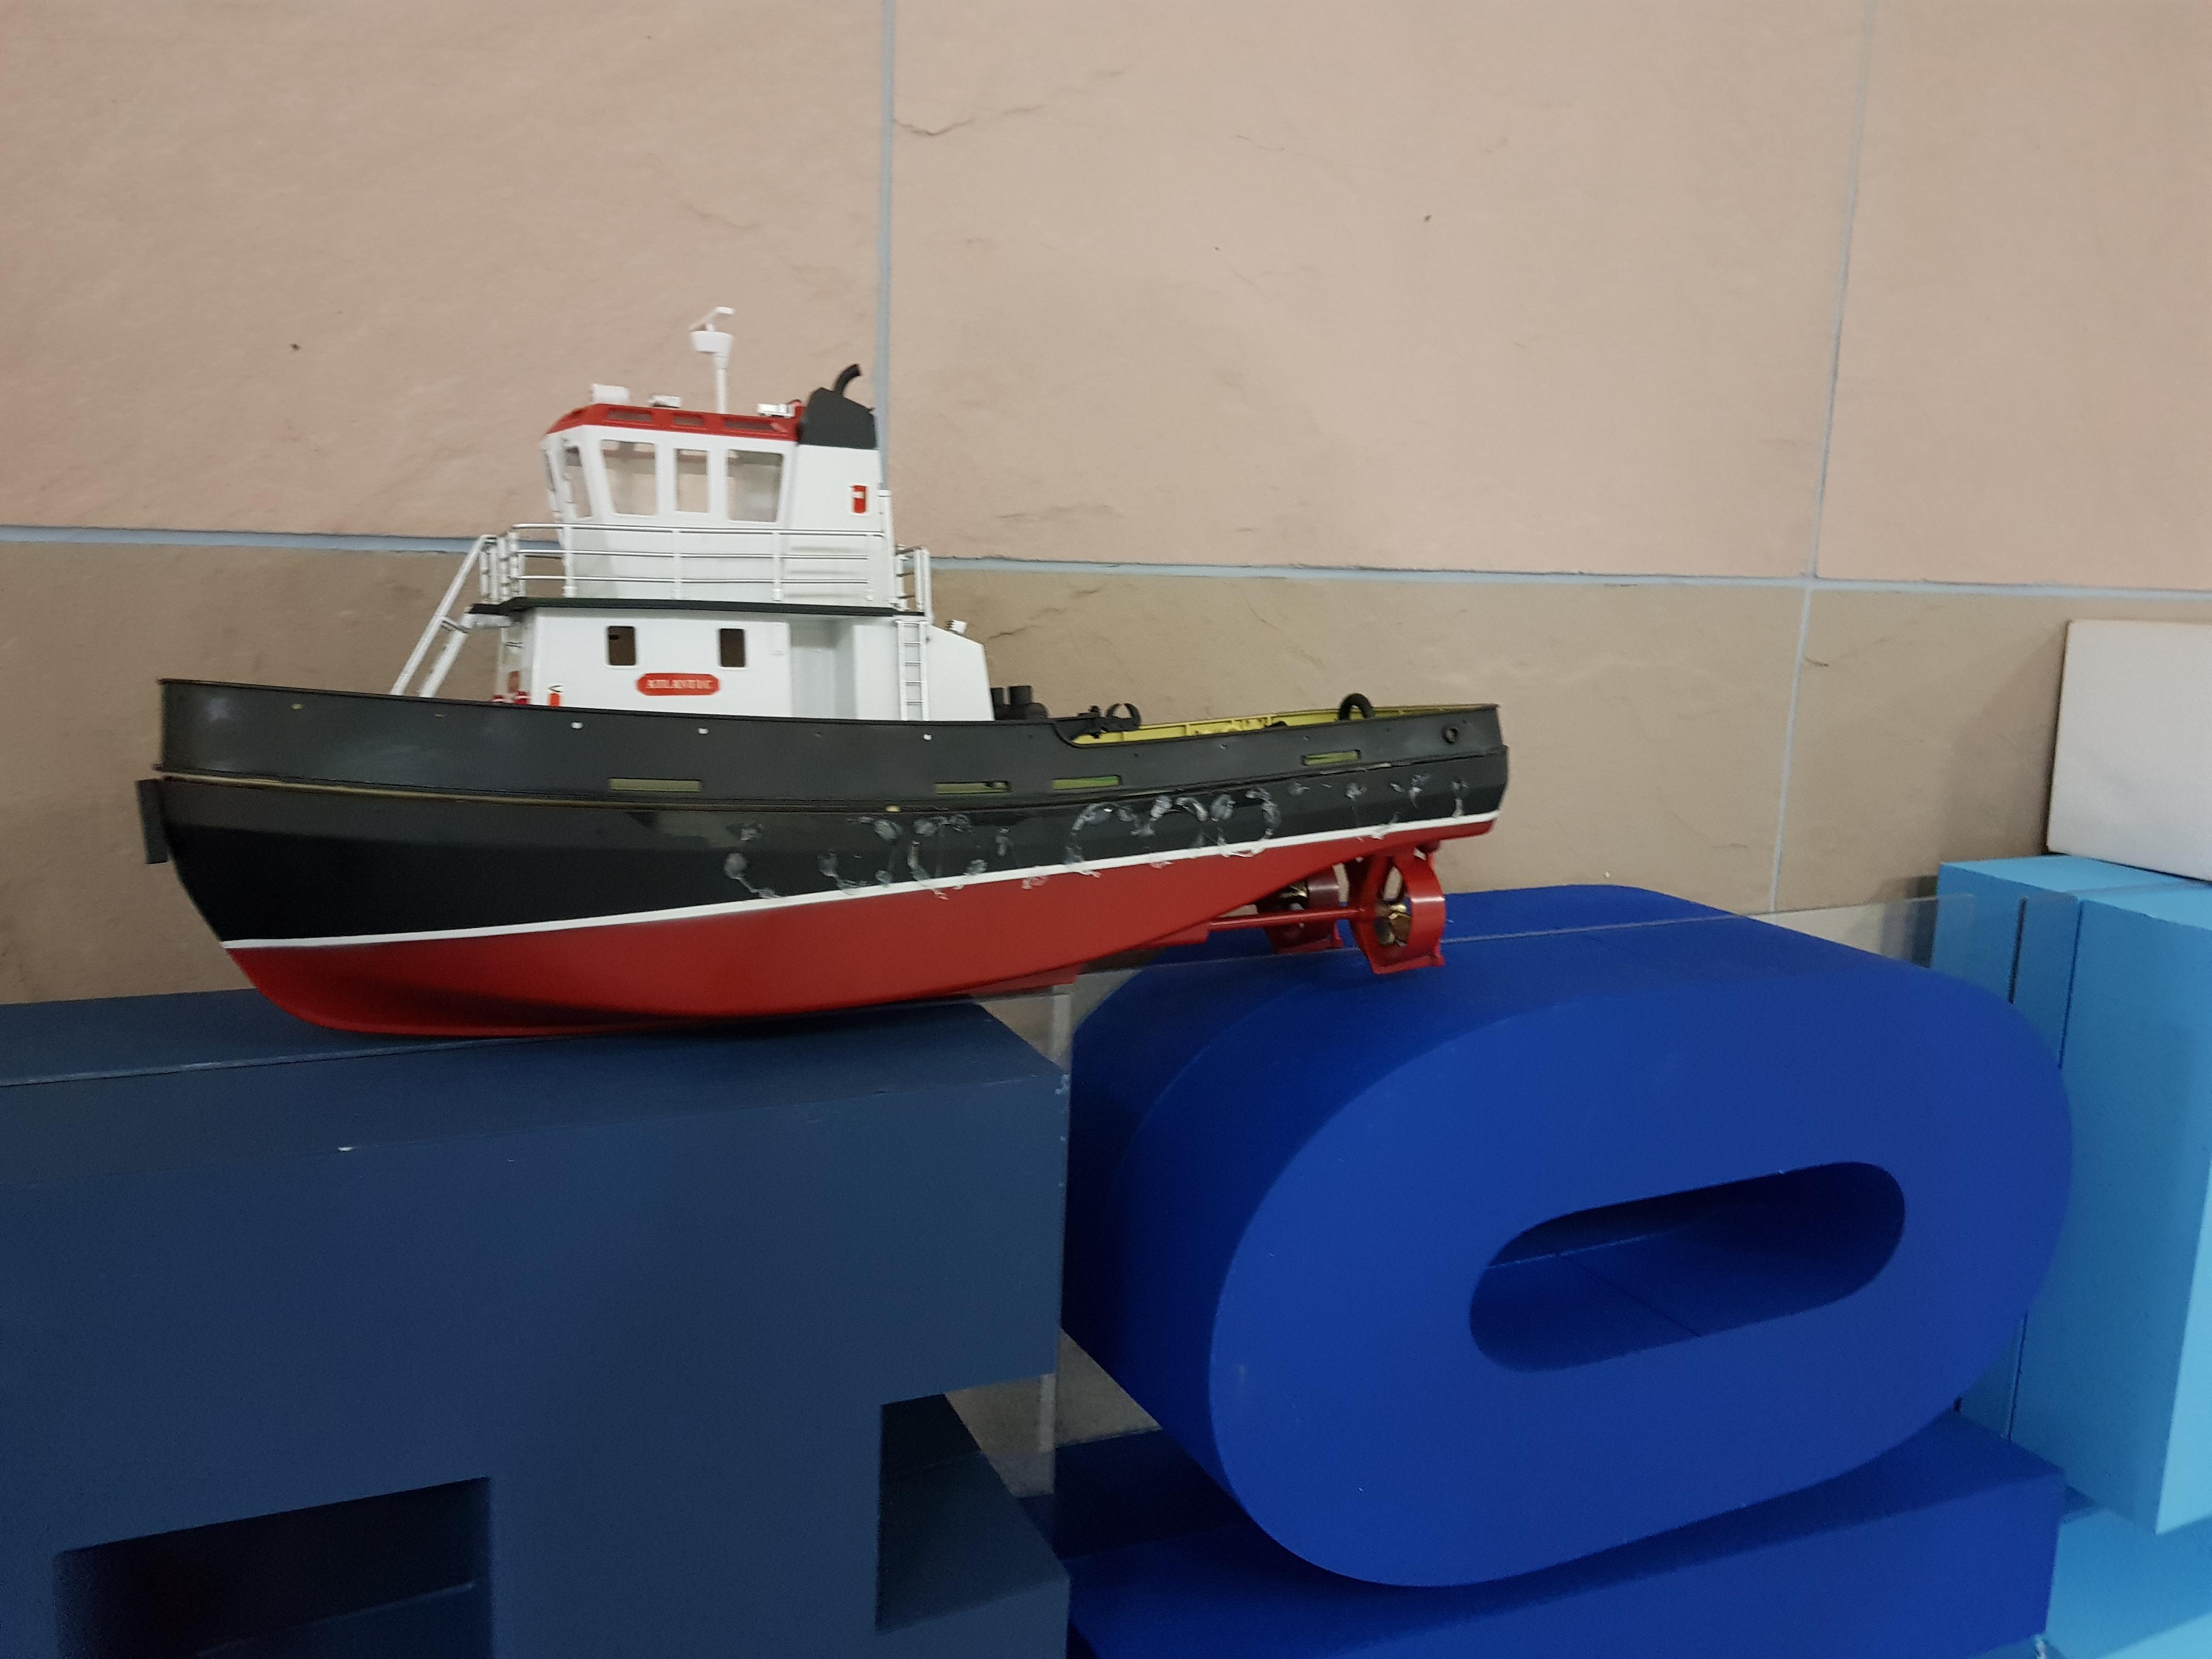Boat: (143, 308, 1512, 1025)
